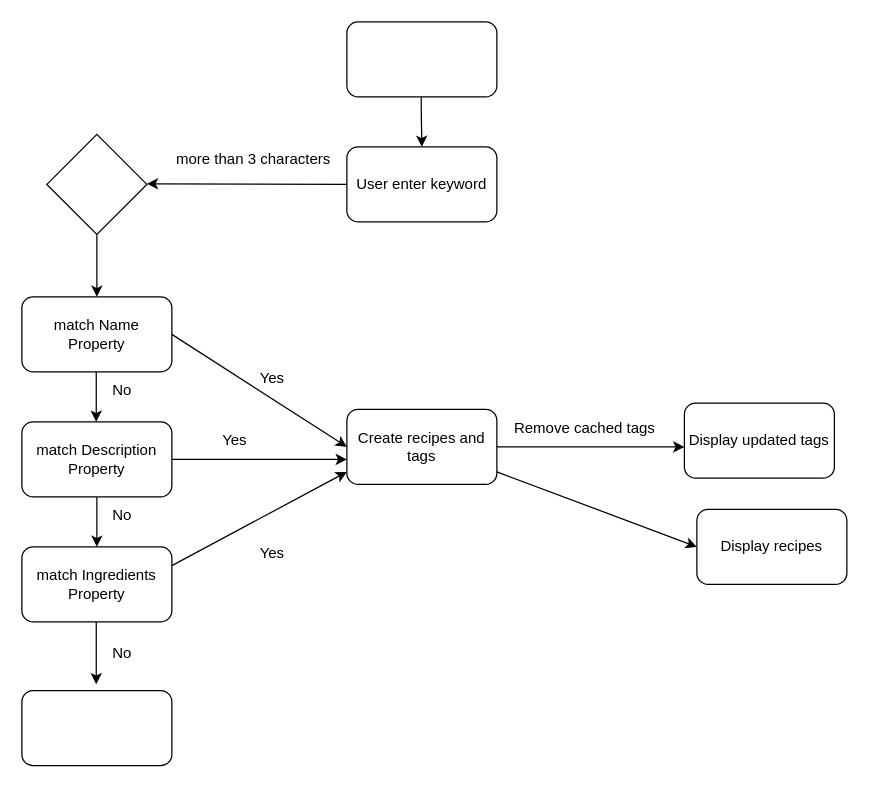
This 869x788 diagram has some shape labels left out. The centre of each missing label's shape, as x and y in pixels:
"keyword in database" goes at (96,183).
"Text: « Aucune recette ne correspond à votre critère...»" goes at (96,727).
"User select searchbar" goes at (421,59).
